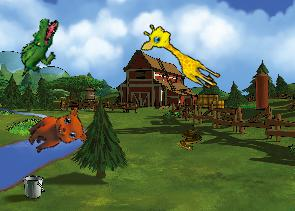bear: (22, 101, 92, 166)
crocodile: (19, 16, 59, 78)
giraffe: (135, 20, 228, 92)
